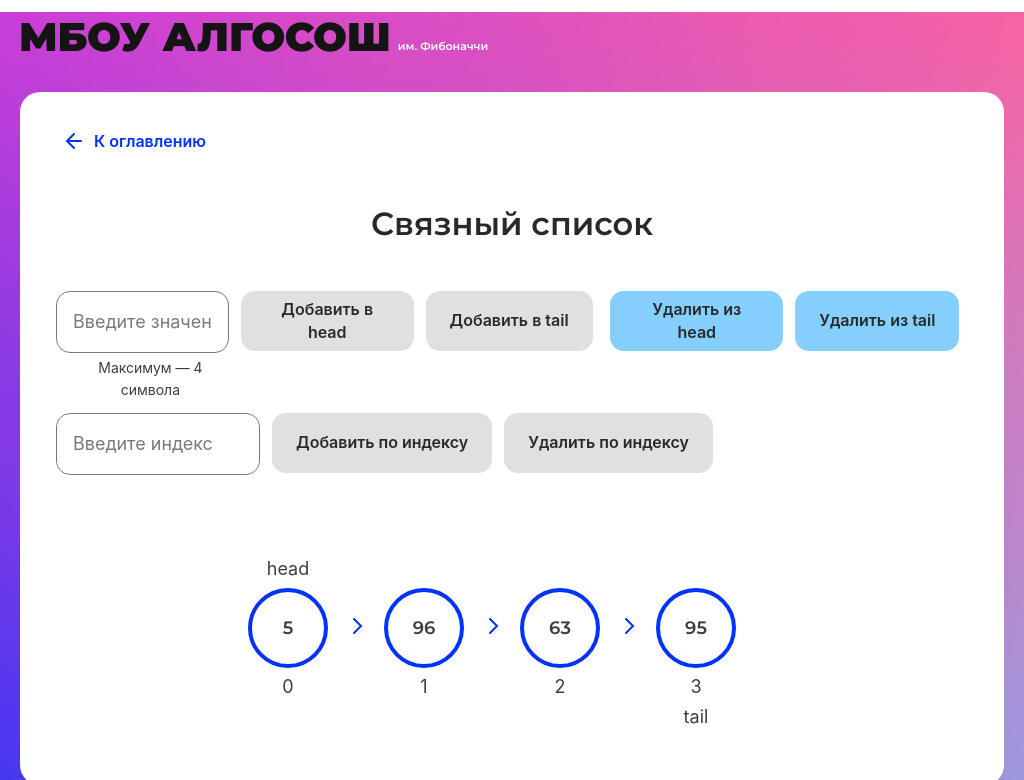
Test: List › correct add element on index
Type "test" into the field with placeholder "Введите значение" at (143, 322), box [56,291,229,353]
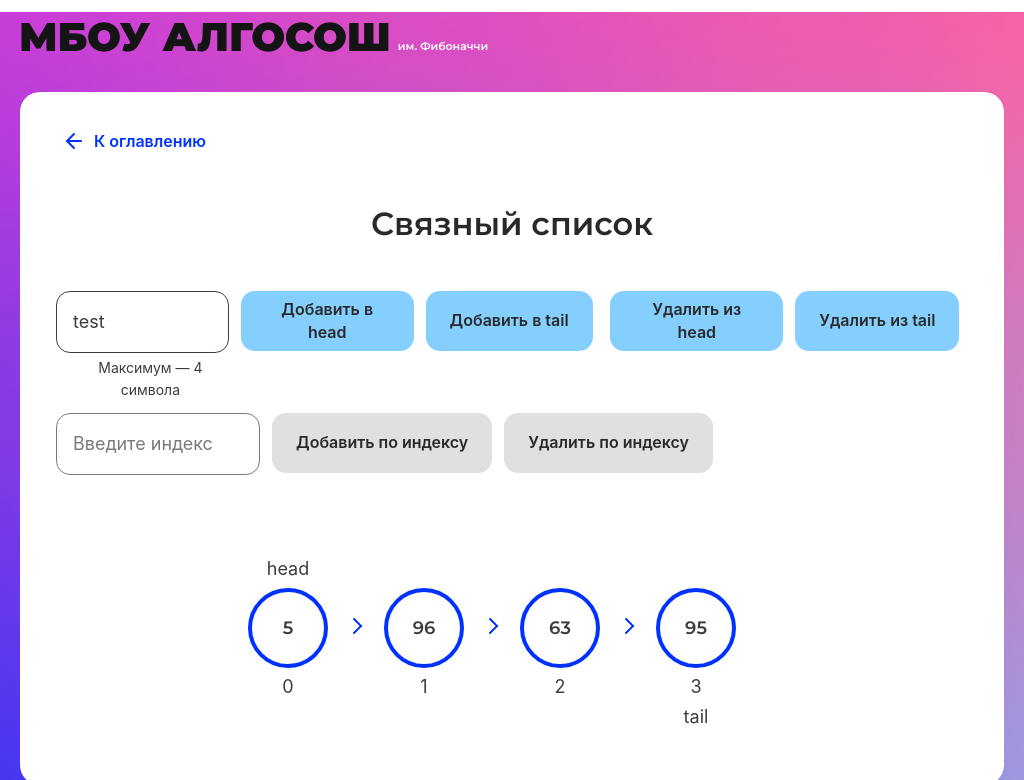
Type "2" into the number field with placeholder "Введите индекс" at (158, 444), box [56,413,260,475]
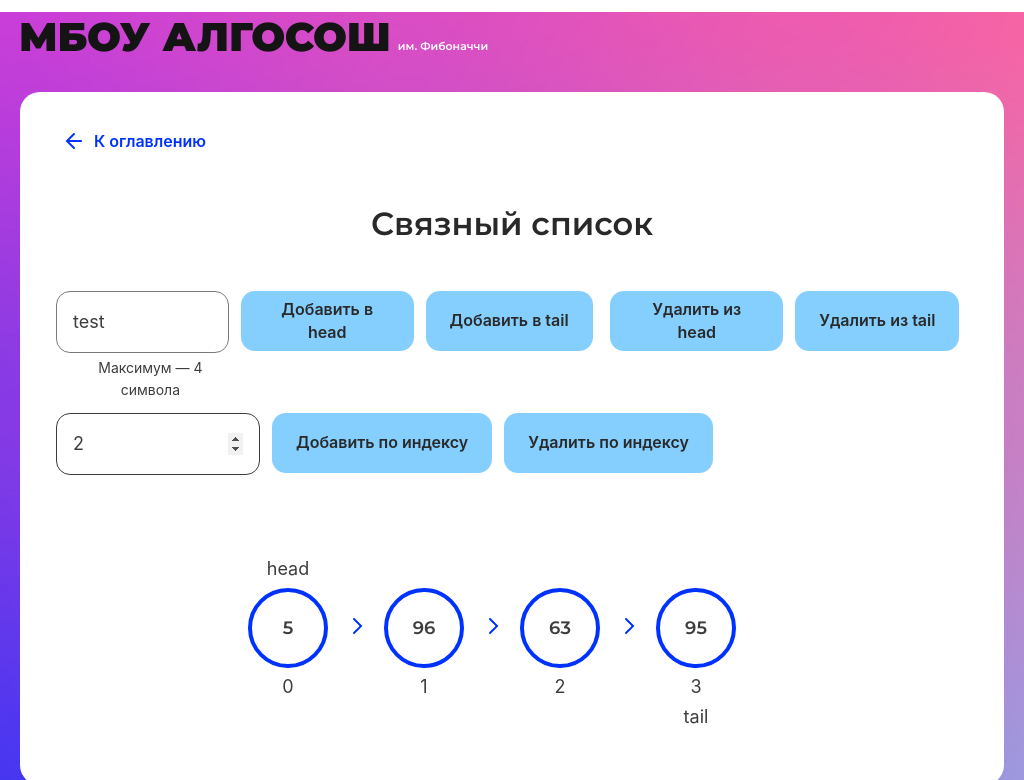
Click the button with test id "buttonAddIndexList" at (382, 443), box [272,413,492,473]
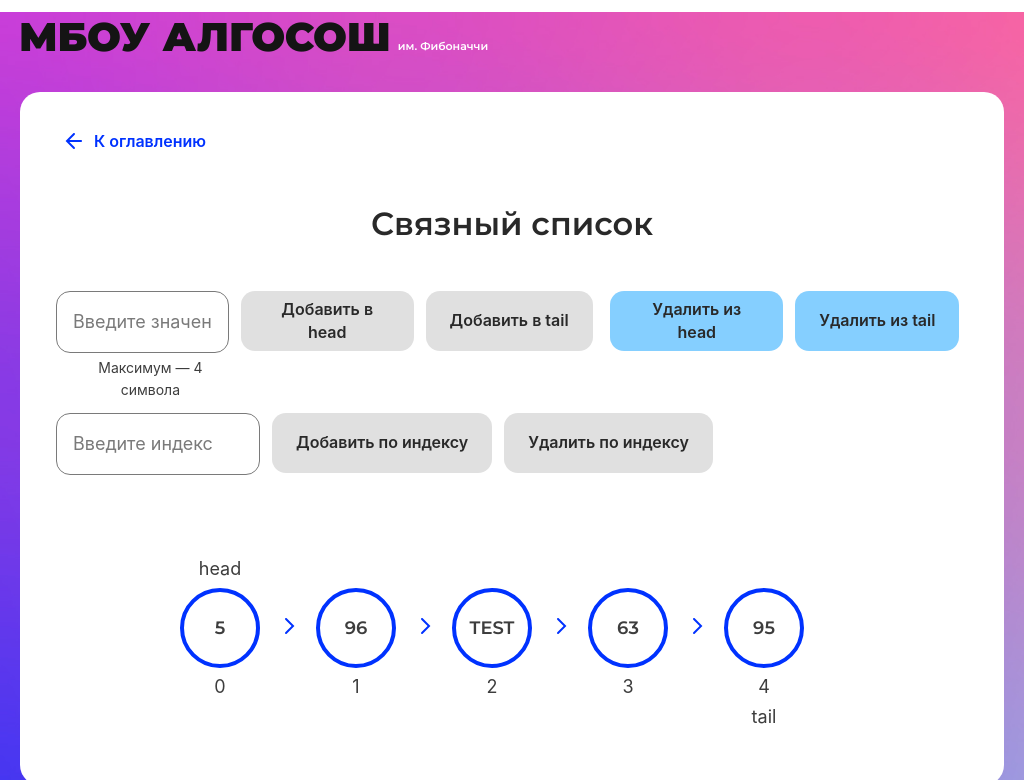
Expected: the element with test id "circle" reads "test", [452,588,532,668]
